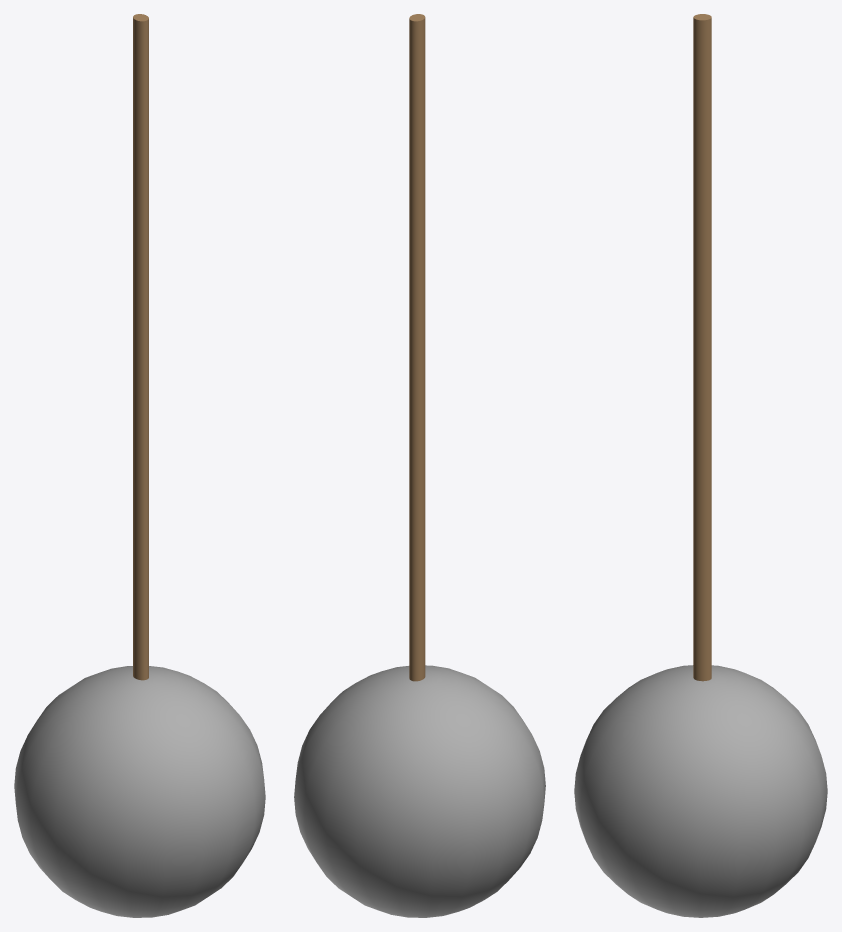
The model's file is Aquatic_Bubble_small.fbx.
The picture shows the model from 3 angles, left to right: view 1: azimuth 30°, elevation 25°; view 2: azimuth 150°, elevation 25°; view 3: azimuth 270°, elevation 25°; orthographic projection.
Visible parts, largest first — view 1: pSphere3, pCylinder4; view 2: pSphere3, pCylinder4; view 3: pSphere3, pCylinder4.
Part boxes in pixels (x1=…): pSphere3: x1=14, y1=666, x2=265, y2=917; pCylinder4: x1=133, y1=14, x2=148, y2=680; pSphere3: x1=294, y1=665, x2=545, y2=917; pCylinder4: x1=409, y1=14, x2=425, y2=681; pSphere3: x1=574, y1=665, x2=827, y2=917; pCylinder4: x1=693, y1=14, x2=711, y2=681.
Bounding box in the file's own units: 1.63 × 6.3 × 1.63.
